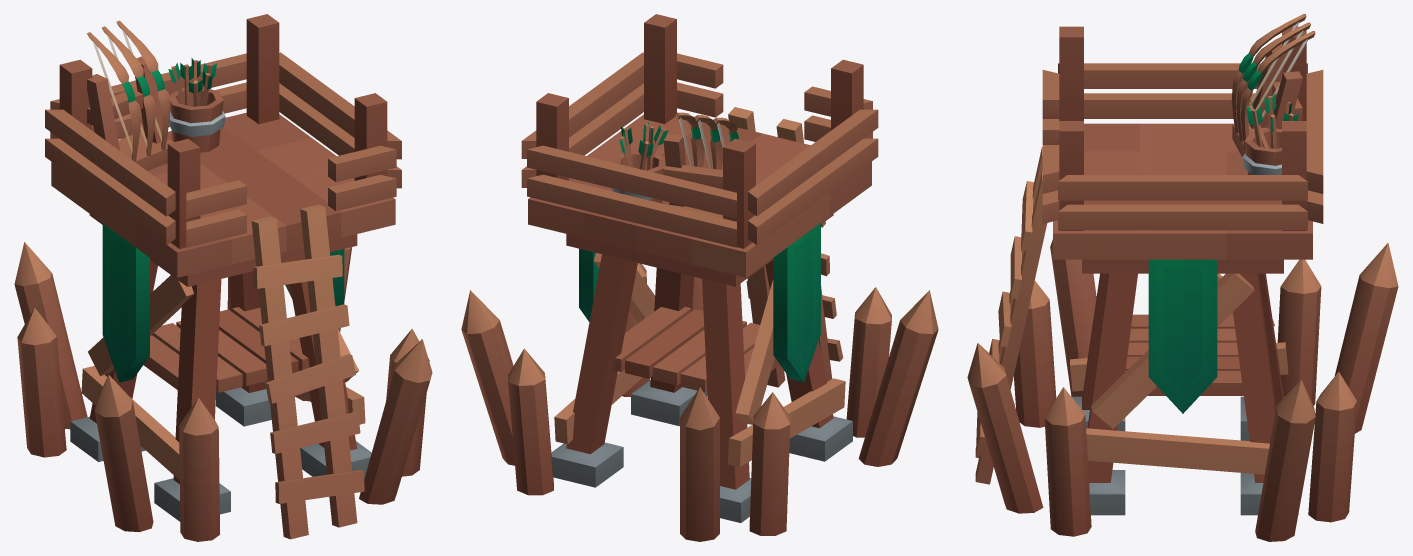
Rendered from hex_watchtower.glb.
3 renders of one model, left to right at view 1: azimuth 30°, elevation 25°; view 2: azimuth 150°, elevation 25°; view 3: azimuth 270°, elevation 25°, orthographic. The views are drawn at different scales.
Parts seen in each view (by area): view 1: building_watchtower_green; view 2: building_watchtower_green; view 3: building_watchtower_green.
Part boxes in pixels (<box>): building_watchtower_green: <box>14,14,432,541</box>; building_watchtower_green: <box>461,14,938,541</box>; building_watchtower_green: <box>967,14,1398,541</box>.
Bounding box in the file's own units: 1.04 × 1.11 × 1.04.
Materials: 1 (1 with a texture image).
